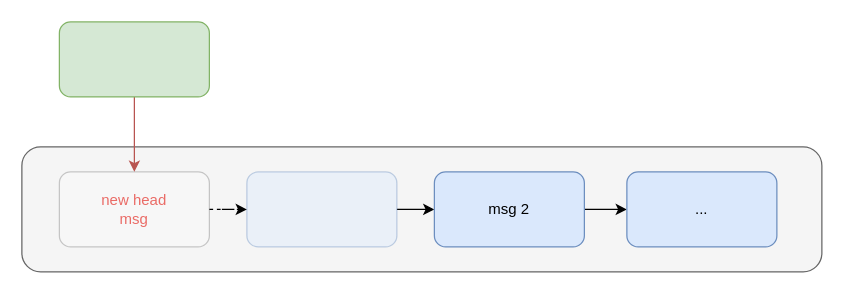
Some shapes in this 844 by 294 pixel diagram are drawn without their labels. The shapes that lost their labels are listed below. From the top down, each one's centre as x and y in pixels, then its label:
the point at 133,59: front queue msg
the point at 321,209: head msg
